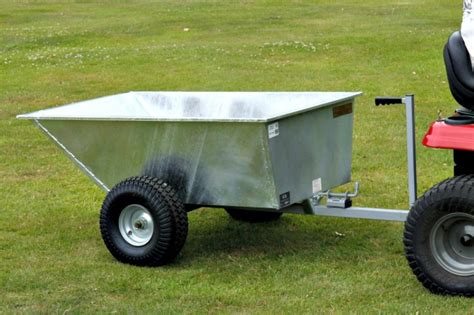Carts: (17, 89, 416, 266)
